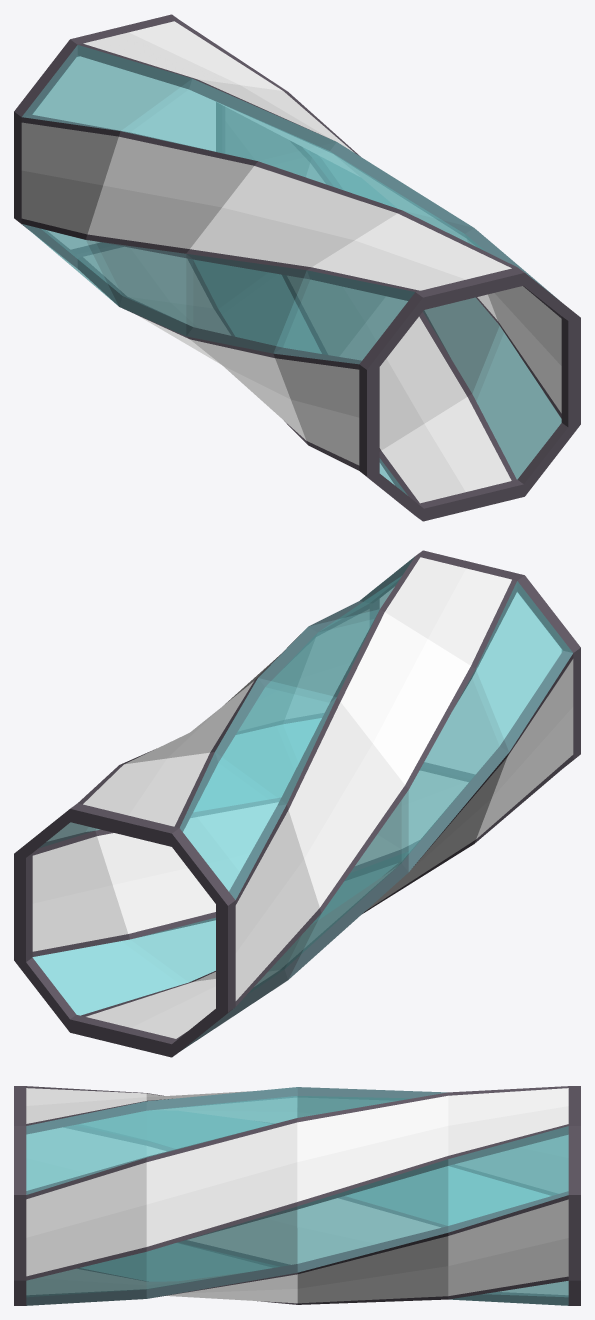
Rendered from TunnelSection08.fbx.
3 views of the same model, one above another, from view 1: azimuth 30°, elevation 25°; view 2: azimuth 150°, elevation 25°; view 3: azimuth 270°, elevation 25° (orthographic). The views are drawn at different scales.
Parts seen in each view (by area): view 1: TunnelSection08; view 2: TunnelSection08; view 3: TunnelSection08.
Boxes of the visible parts, x1,y1,x2,y2 form: TunnelSection08: (14, 14, 580, 521); TunnelSection08: (14, 550, 580, 1057); TunnelSection08: (14, 1086, 580, 1305).
Size of the model in its own units: 46.31 by 46.31 by 120.
